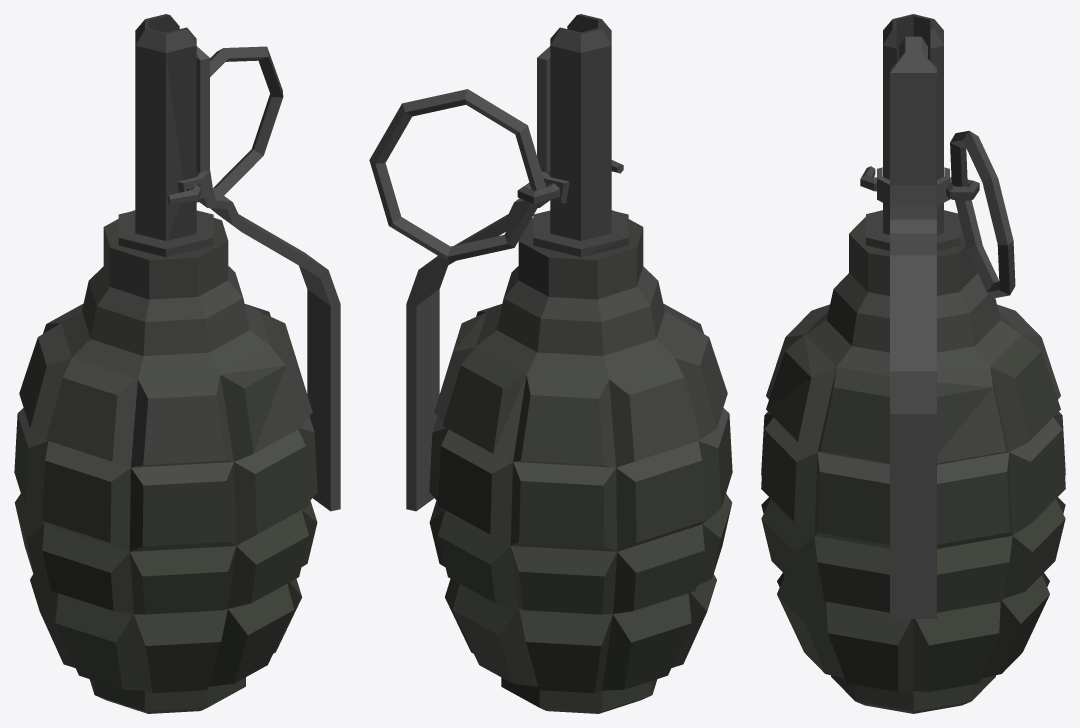
Rendered from grenade.glb.
3 views of the same model, side by side, from view 1: azimuth 30°, elevation 25°; view 2: azimuth 150°, elevation 25°; view 3: azimuth 270°, elevation 25° (orthographic).
Parts seen in each view (by area): view 1: body; view 2: body; view 3: body.
Boxes of the visible parts, left/top/right/bottom form: body: left=14, top=14, right=340, bottom=713; body: left=369, top=14, right=732, bottom=713; body: left=761, top=14, right=1065, bottom=713.
Bounding box in the file's own units: 0.0548 × 0.117 × 0.0489.
Materials: 1 (1 with a texture image).
